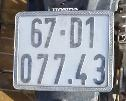0: (17, 51, 34, 83)
1: (83, 16, 98, 49)
3: (91, 51, 111, 89)
4: (73, 53, 90, 89)
6: (28, 16, 43, 48)
7: (34, 49, 51, 86), (51, 50, 67, 85), (46, 17, 57, 49)
D: (66, 15, 83, 50)
